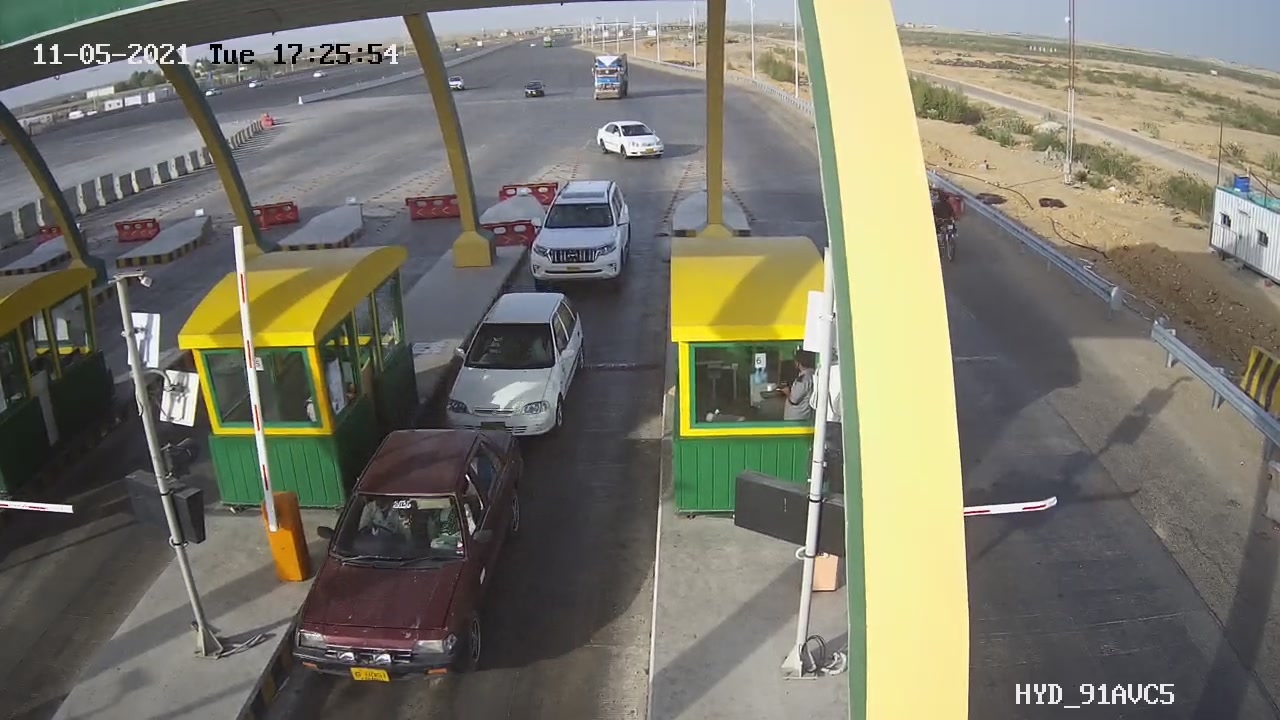F1: (438, 277, 594, 457), (517, 165, 647, 300)
